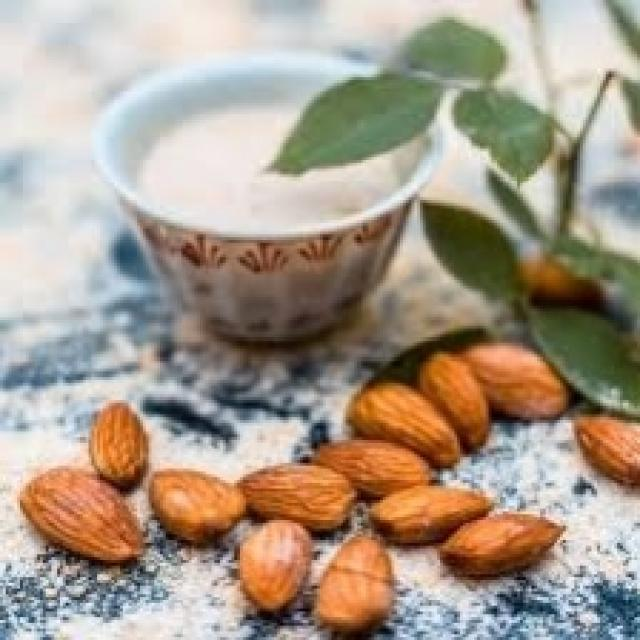almond: (15, 461, 148, 563), (347, 382, 462, 468), (240, 460, 360, 536), (462, 341, 572, 420), (440, 512, 566, 577), (316, 534, 396, 628), (149, 469, 248, 543), (374, 486, 498, 540), (421, 352, 489, 449), (309, 442, 435, 494), (241, 519, 309, 613), (93, 402, 151, 486), (576, 414, 640, 486)
